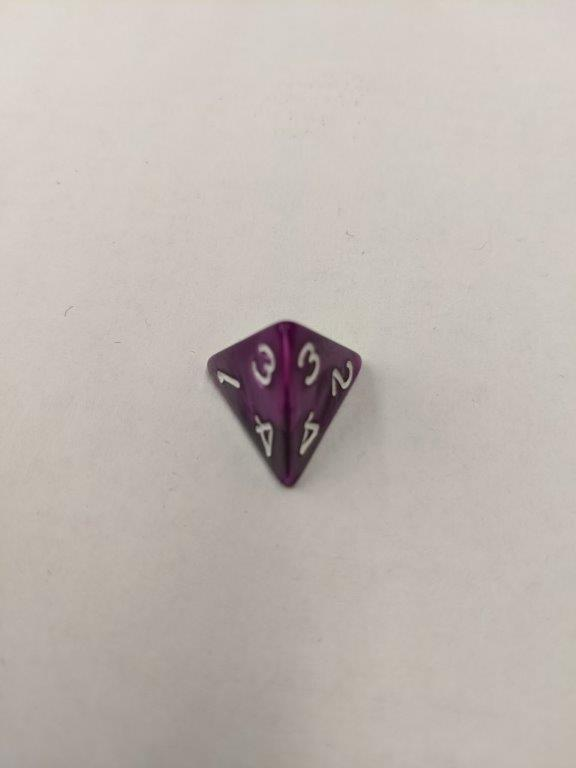d4-3: (200, 316, 366, 489)
